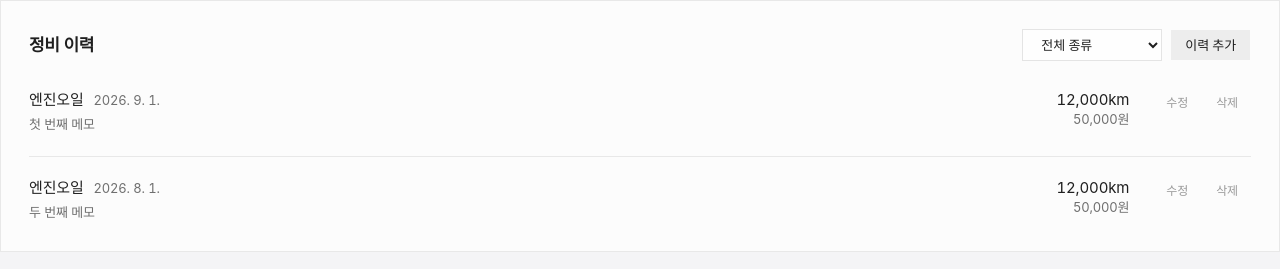
Test: MaintenanceSection › 한 행을 지우는 중에 다른 행을 지워도 앞 행의 삭제 버튼은 잠긴 채다
Click the button "삭제" in the row of "2026. 9. 1.".
click(1227, 103)  # box left=1203, top=89, right=1251, bottom=117
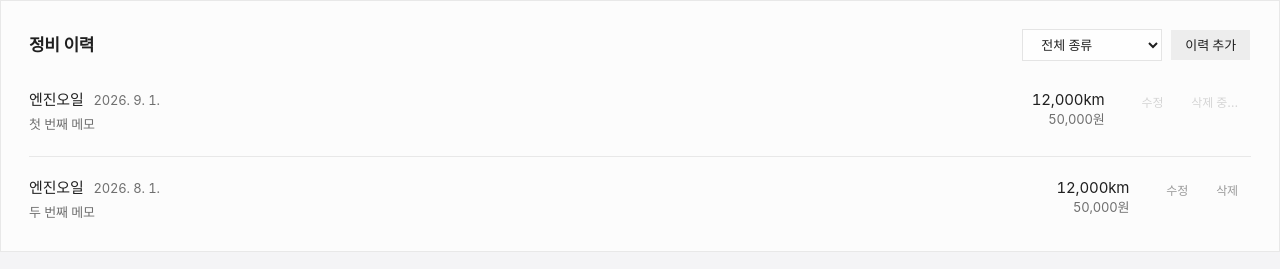
Click the button "삭제".
click(1227, 190)  # box left=1203, top=176, right=1251, bottom=204
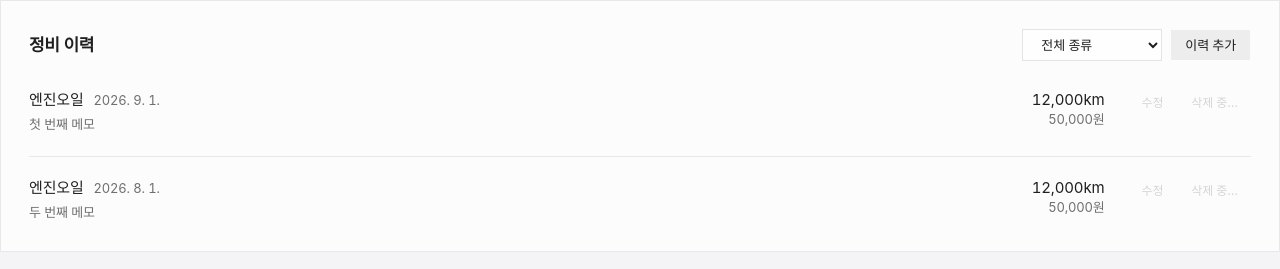
Expected: the button "삭제 중…" in the row of "2026. 9. 1." is disabled, left=1178, top=89, right=1251, bottom=117
Expected: the button "삭제 중…" in the row of "2026. 8. 1." is disabled, left=1178, top=176, right=1251, bottom=204
